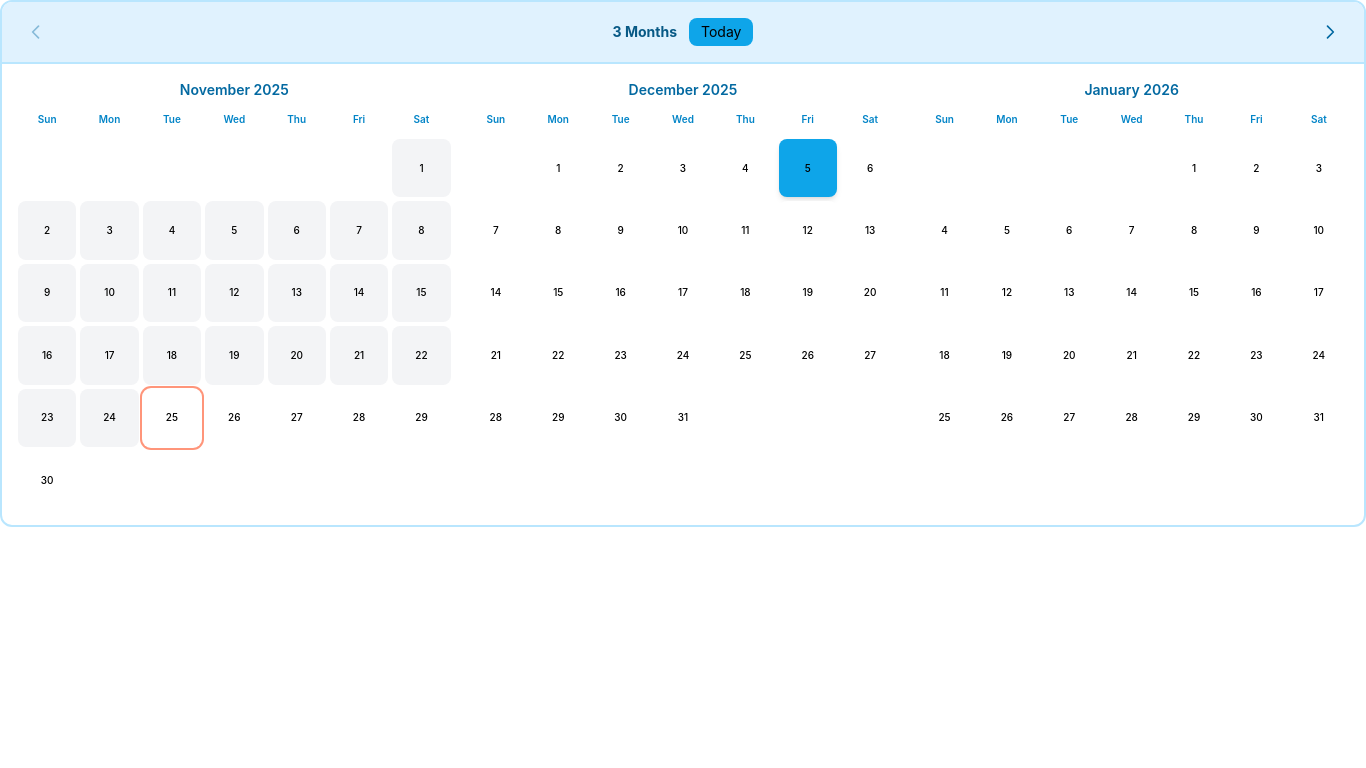
Test case: CalendarMonthView › highlights selected dates
Click the button named "Next month".
click(1330, 32)  # box [1312, 14, 1348, 50]
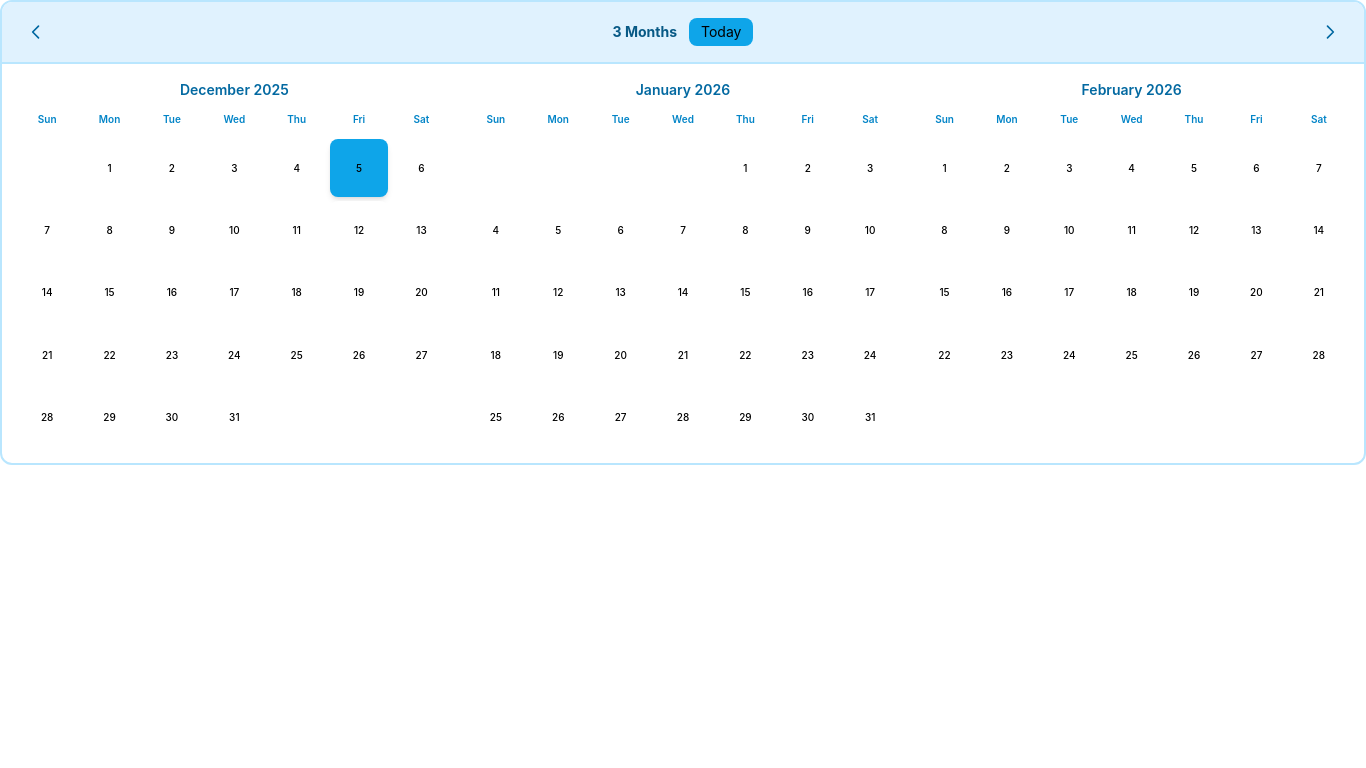
Check: the button with test id "calendar-day-selected" is shown, box [330, 139, 388, 197]
